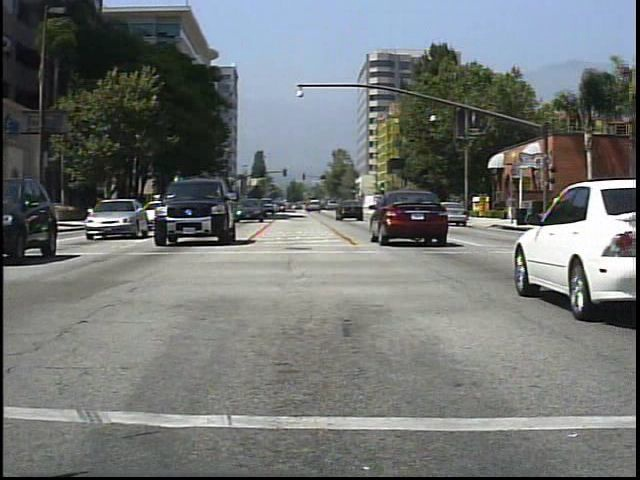person: (550, 189, 570, 229), (505, 189, 519, 225)
